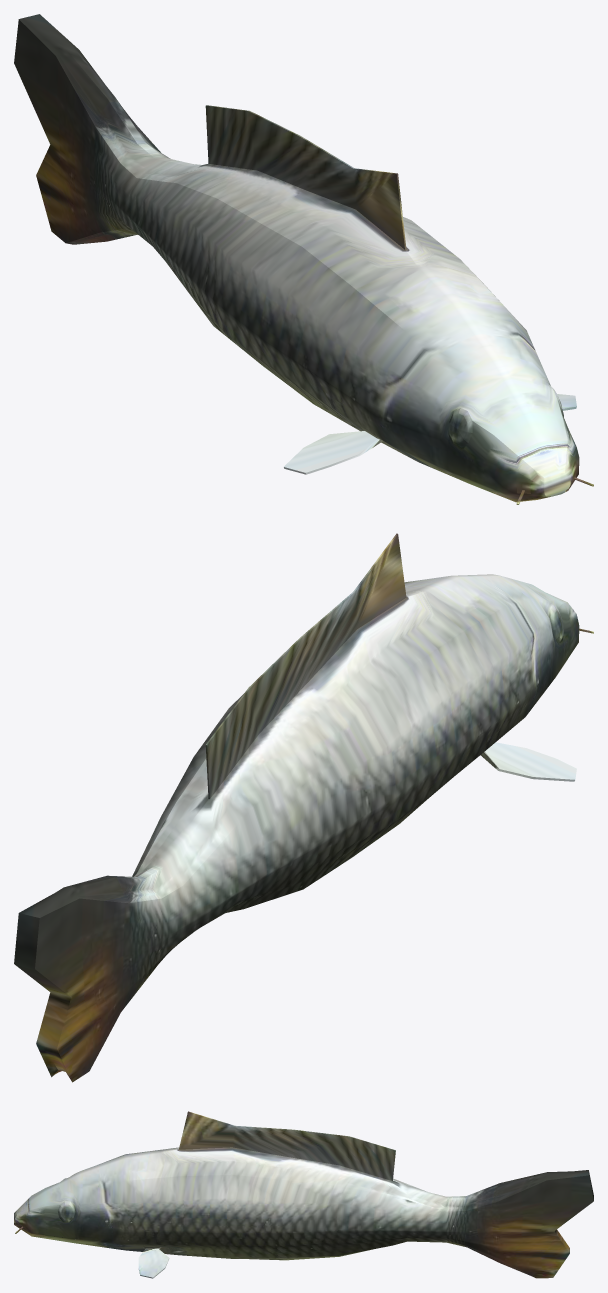
File: koi_model.fbx
The picture shows the model from 3 angles, top to bottom: view 1: azimuth 30°, elevation 25°; view 2: azimuth 150°, elevation 25°; view 3: azimuth 270°, elevation 25°; orthographic projection. The views are drawn at different scales.
Parts seen in each view (by area): view 1: pCube1; view 2: pCube1; view 3: pCube1.
Part boxes in pixels (x1=…): pCube1: x1=14, y1=14, x2=593, y2=504; pCube1: x1=14, y1=533, x2=593, y2=1082; pCube1: x1=14, y1=1111, x2=593, y2=1278.
Size of the model in its own units: 1.63 by 1.63 by 5.17.
